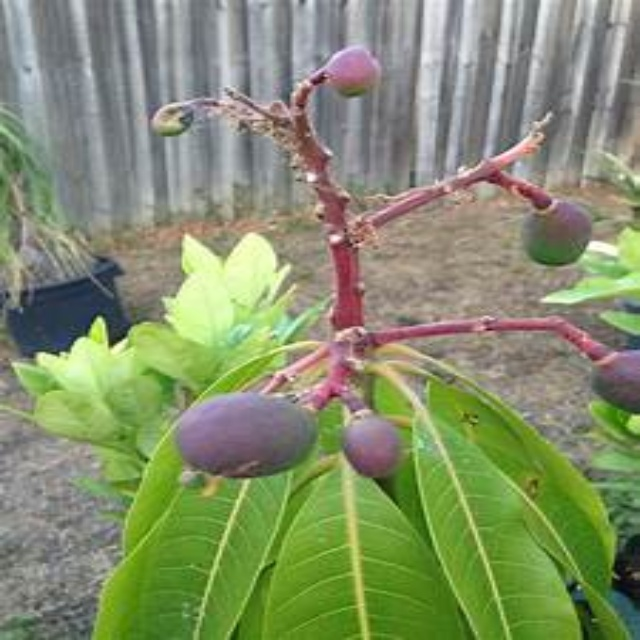mango: (184, 389, 313, 483), (309, 44, 400, 107), (526, 186, 591, 272), (586, 342, 639, 416), (349, 414, 403, 476)
